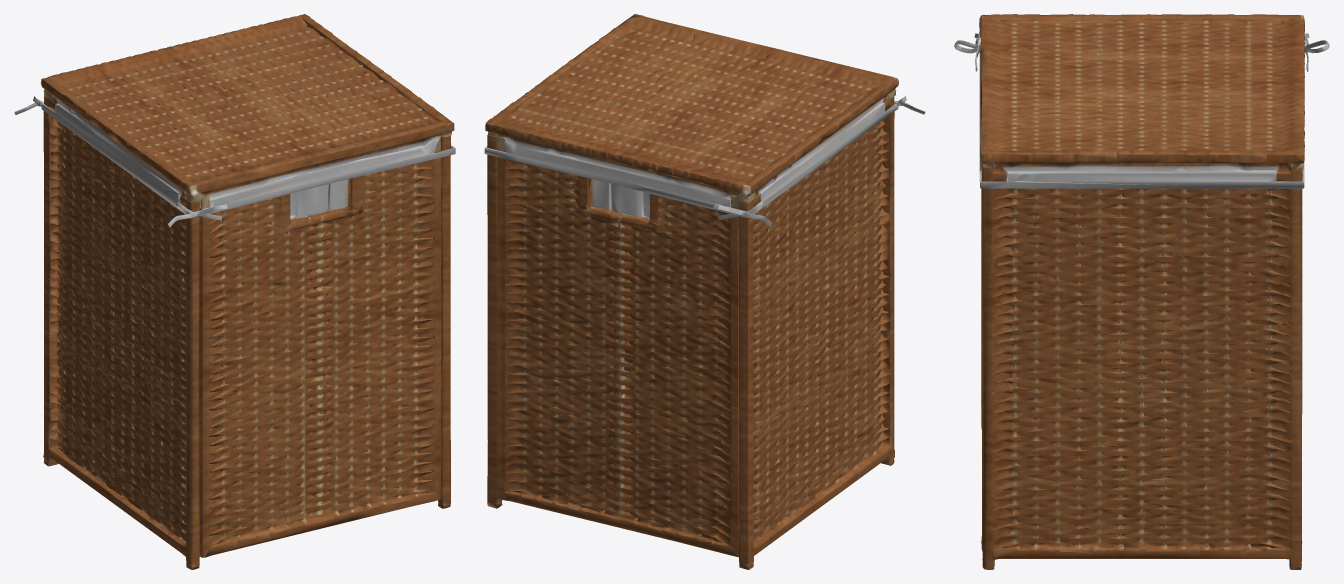
File: branas_kosz_na_bielizne_20214731.glb
3 views of the same model, side by side, from view 1: azimuth 30°, elevation 25°; view 2: azimuth 150°, elevation 25°; view 3: azimuth 270°, elevation 25° (orthographic). The views are drawn at different scales.
Visible parts, largest first — view 1: branas_kosz_na_bielizne_20214731; view 2: branas_kosz_na_bielizne_20214731; view 3: branas_kosz_na_bielizne_20214731.
Part boxes in pixels (box(x1,y1,x2,y2)): branas_kosz_na_bielizne_20214731: box(14, 14, 455, 569); branas_kosz_na_bielizne_20214731: box(484, 14, 925, 569); branas_kosz_na_bielizne_20214731: box(954, 14, 1329, 569).
Size of the model in its own units: 0.4733 by 0.6008 by 0.4901.
1 material, 1 textured.
